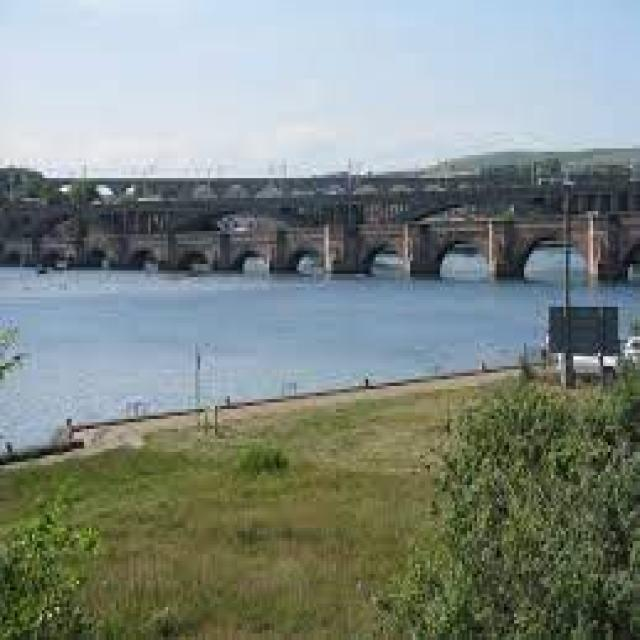Bridges: (4, 118, 640, 336)
